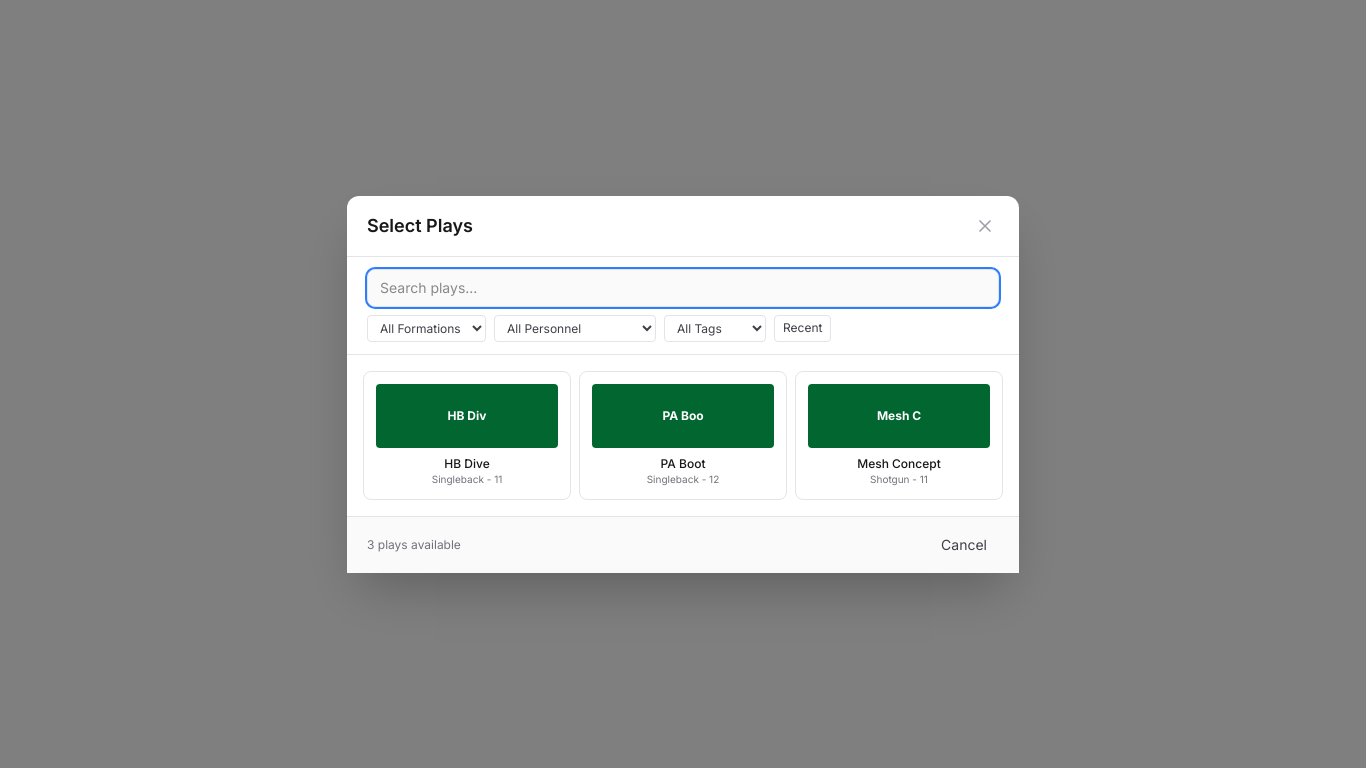
Test: PlayPicker › filters plays by tag search
The width and height of the screenshot is (1366, 768).
Type "play-action" into the field with test id "play-search-input" at (683, 288), box [367,268,999,306]
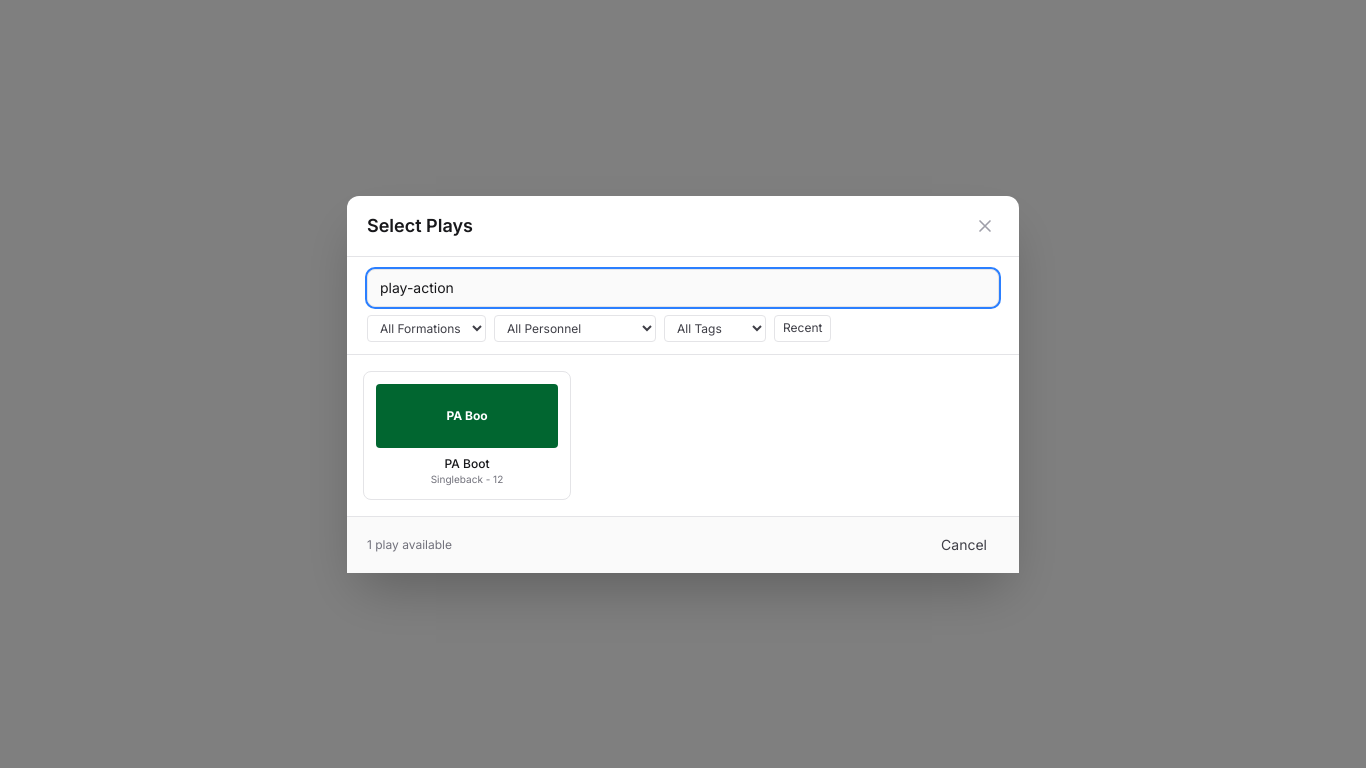
Expected: the button with test id "play-option-play-2" is shown, [363,370,571,500]
Expected: the button with test id "play-option-play-1" is gone
